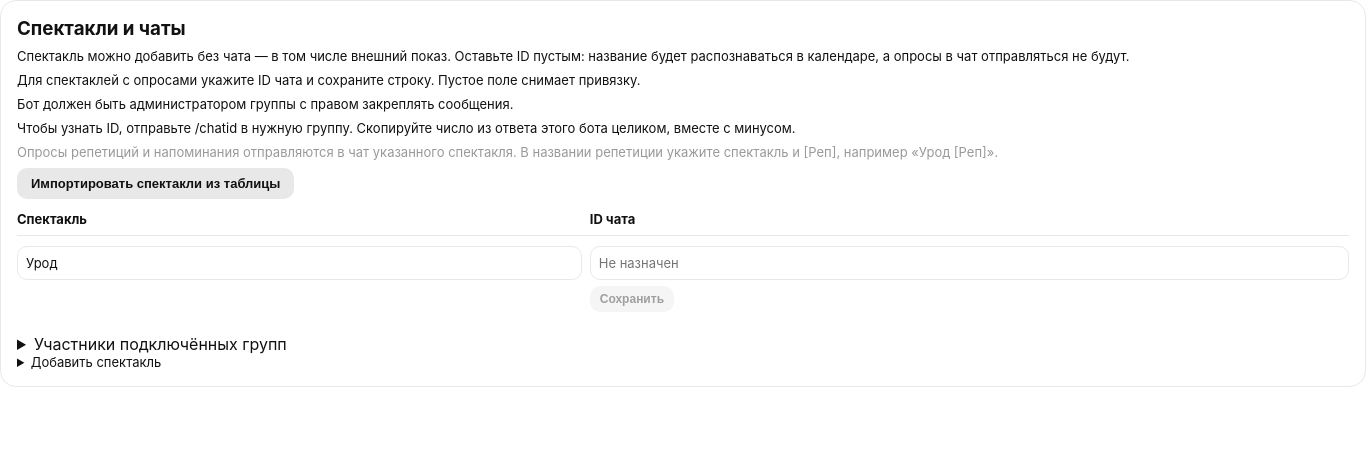
Test: import is explicit and reports added shows
Click the button "Импортировать спектакли из таблицы".
click(156, 184)  # box [17,168,294,199]
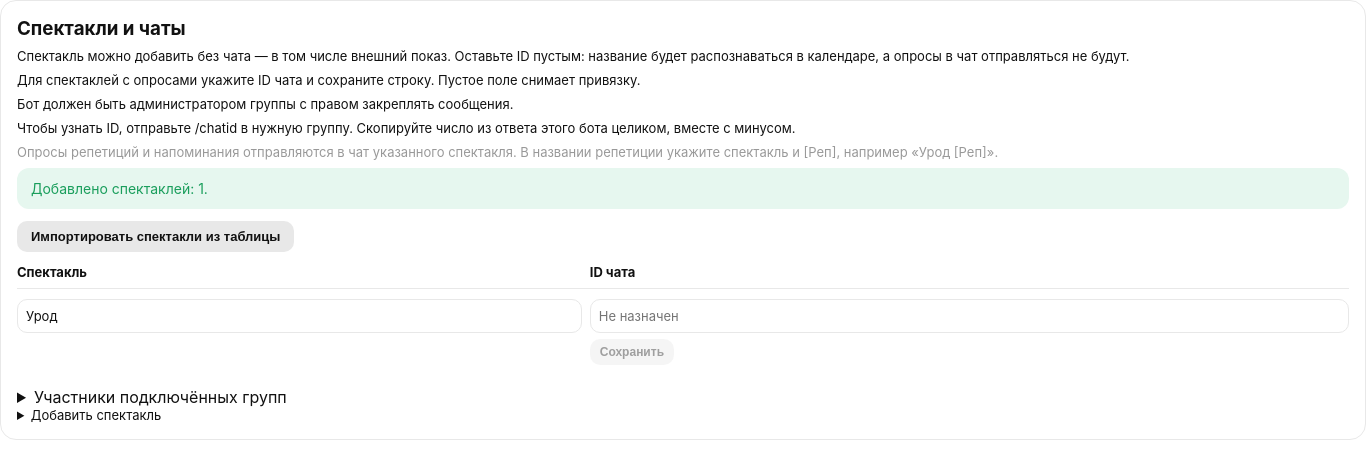
Now the text "Добавлено спектаклей: 1" is shown, box [31,180,208,197]
